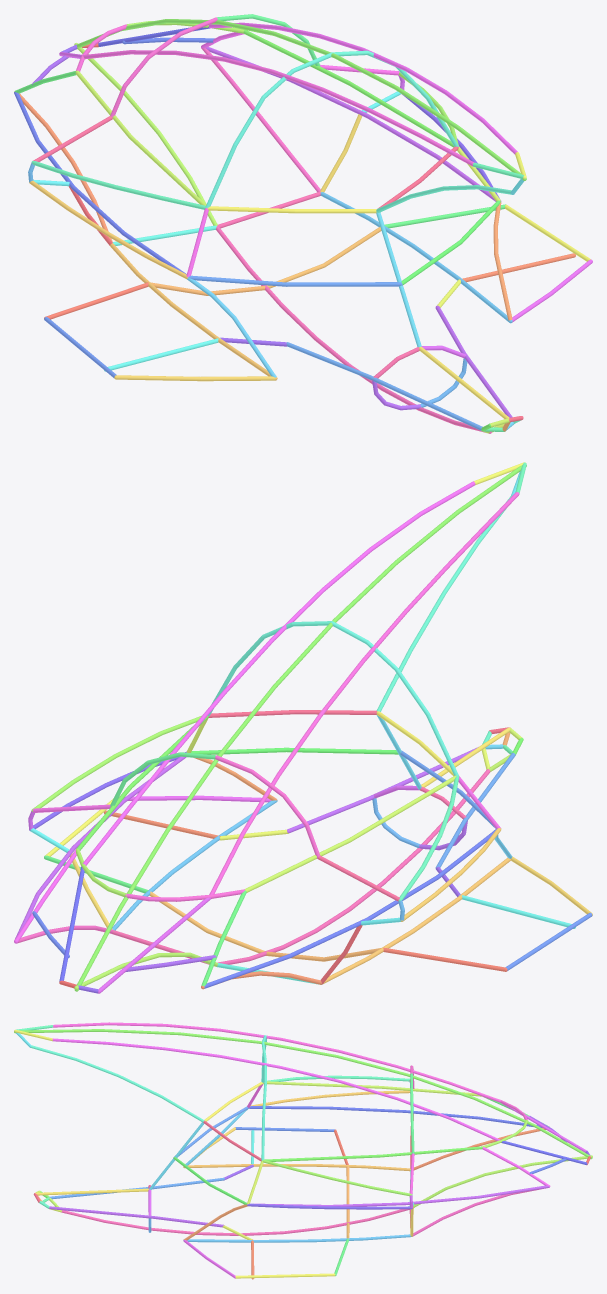
Rendered from ils_spacecraft_78.gltf.
3 views of the same model, one above another, from view 1: azimuth 30°, elevation 25°; view 2: azimuth 150°, elevation 25°; view 3: azimuth 270°, elevation 25° (orthographic). The views are drawn at different scales.
Size of the model in its own units: 0.4985 by 0.3206 by 0.8133.
